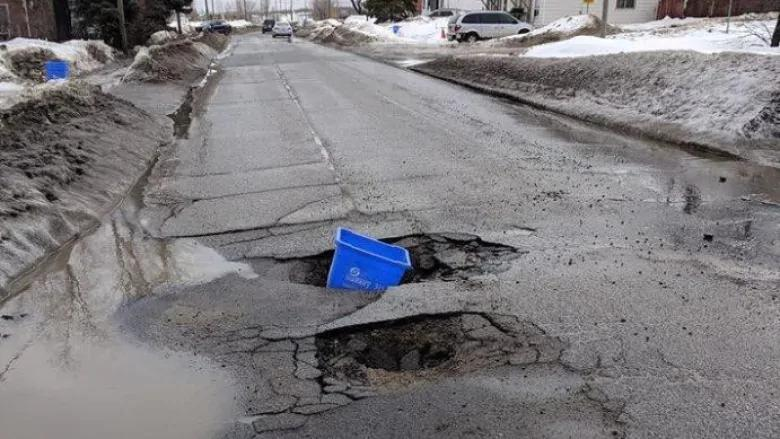Pothole: (0, 182, 351, 438), (302, 314, 555, 384), (259, 232, 512, 291)
